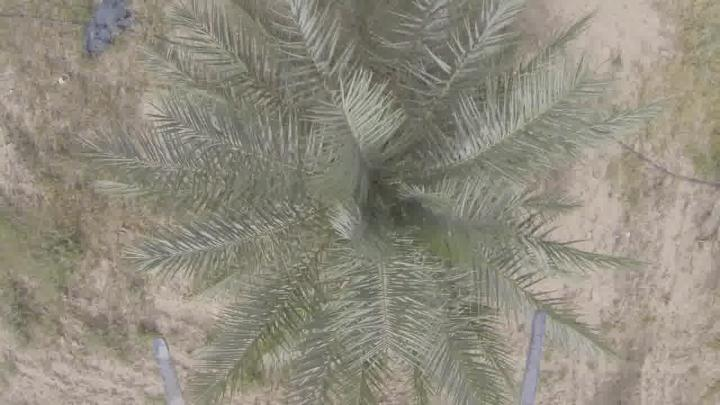Date-Palm-Crown: (216, 51, 526, 339)
